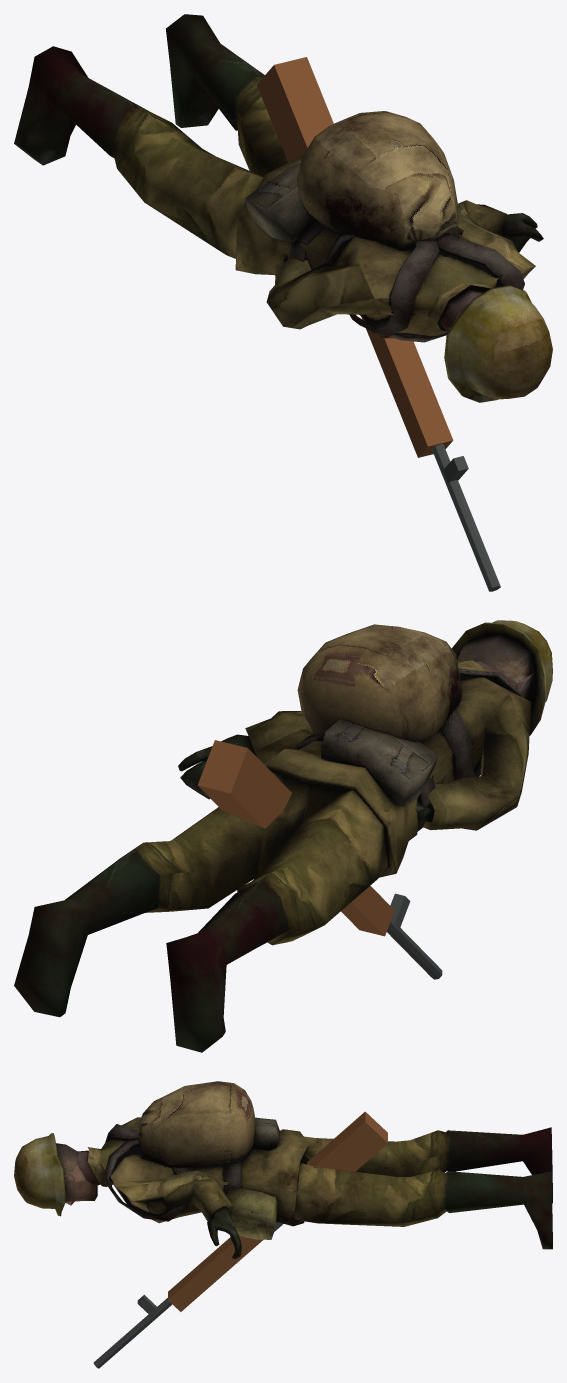
File: soviet_ww2_soldier_death_03.glb
3 views of the same model, one above another, from view 1: azimuth 30°, elevation 25°; view 2: azimuth 150°, elevation 25°; view 3: azimuth 270°, elevation 25° (orthographic). The views are drawn at different scales.
Visible parts, largest first — view 1: final_Static, SovietRifle_Generated; view 2: final_Static, SovietRifle_Generated; view 3: final_Static, SovietRifle_Generated.
Boxes of the visible parts, bbox=[...] form: final_Static: bbox=[14, 14, 552, 402]; SovietRifle_Generated: bbox=[257, 57, 500, 591]; final_Static: bbox=[14, 620, 552, 1052]; SovietRifle_Generated: bbox=[197, 740, 442, 979]; final_Static: bbox=[14, 1081, 552, 1259]; SovietRifle_Generated: bbox=[93, 1111, 387, 1368].
Bounding box in the file's own units: 0.74 × 0.9602 × 1.73.
Materials: 3 (1 with a texture image).
